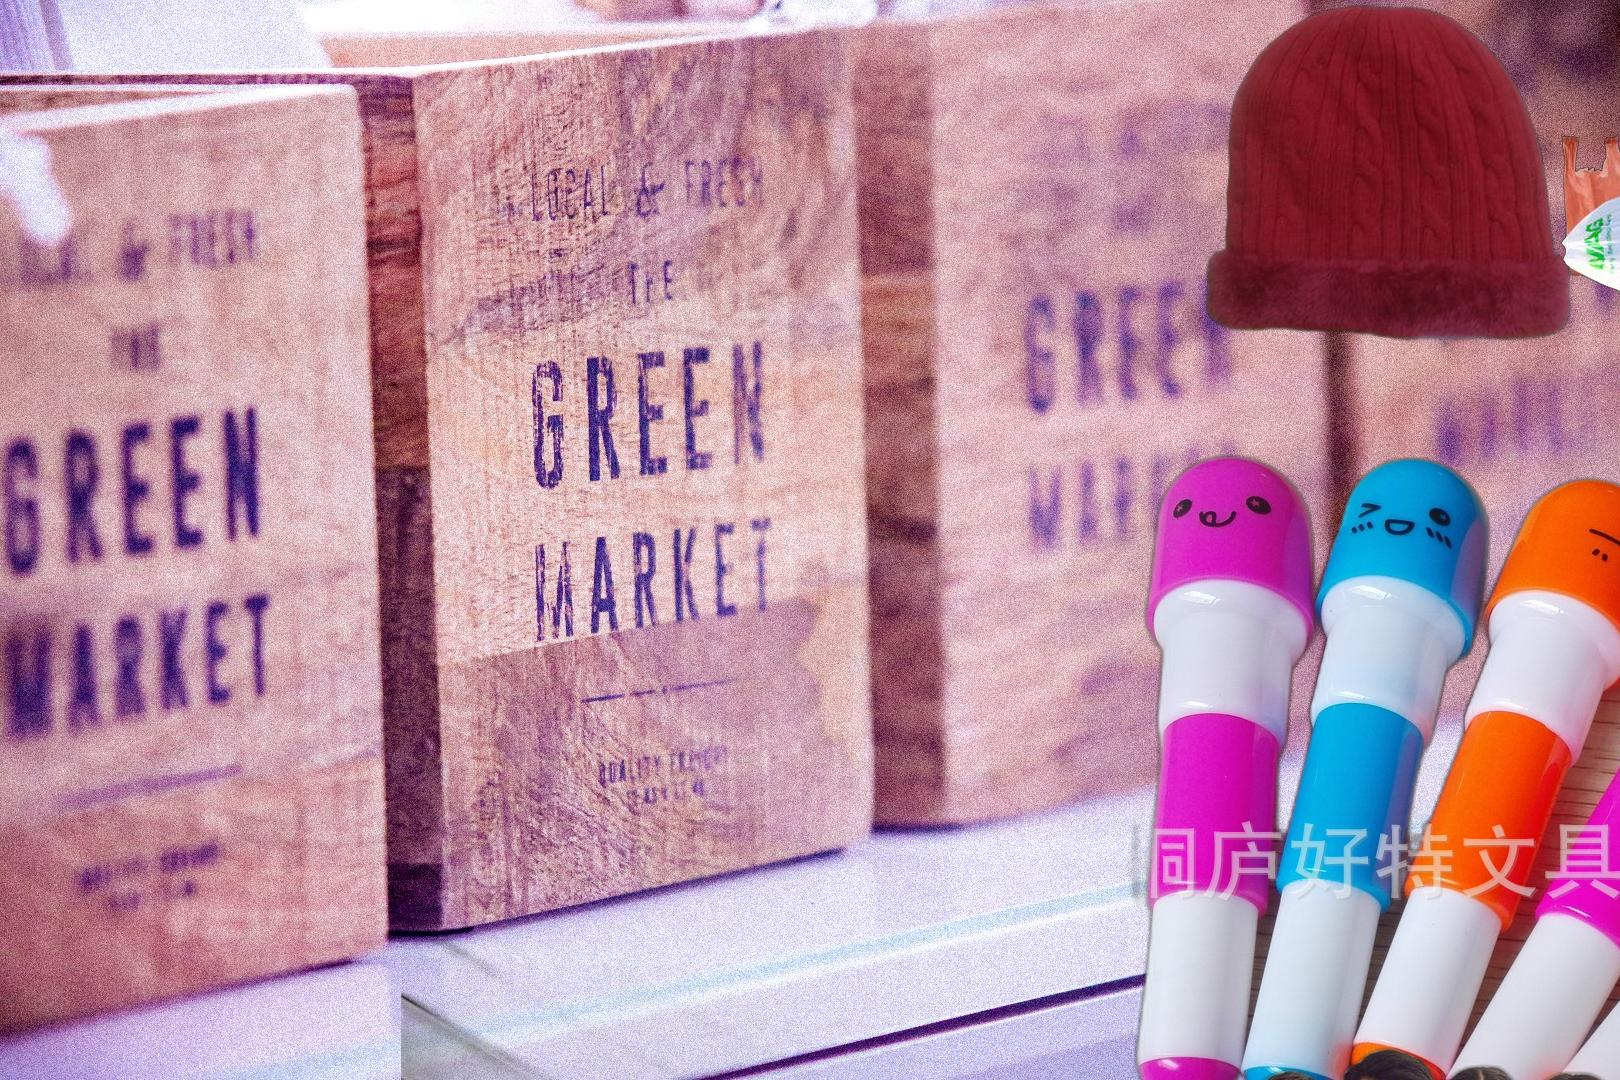biological: (1187, 925, 1620, 1080)
clothes: (1202, 2, 1572, 356)
penholder: (1120, 448, 1620, 1080)
plastic-bag: (1556, 131, 1620, 327)
plastic-bottles: (401, 939, 912, 1080)
trashbox-cardboard: (1182, 1040, 1620, 1080)
